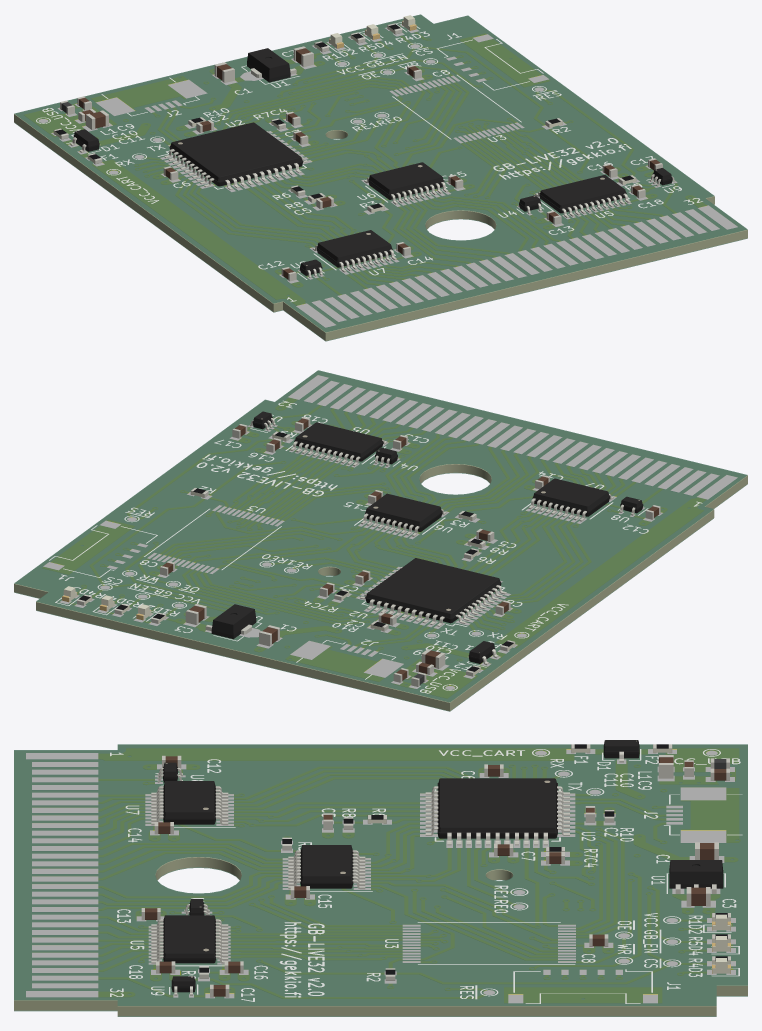
Rendered from board.glb.
3 views of the same model, one above another, from view 1: azimuth 30°, elevation 25°; view 2: azimuth 150°, elevation 25°; view 3: azimuth 270°, elevation 25° (orthographic). The views are drawn at different scales.
Visible parts, largest first — view 1: board_soldermask (×2), board_PCB, board_copper, board_pad, board_silkscreen, TQFP-44_10x10mm_P0.8mm, TSSOP-20_4.4x6.5mm_P0.65mm (×2), TSSOP-24_4.4x7.8mm_P0.65mm, adbeea57-9c39-11ed-93f0-dde97e994e83_part; view 2: board_soldermask (×2), board_PCB, board_copper, board_pad, TQFP-44_10x10mm_P0.8mm, board_silkscreen, TSSOP-20_4.4x6.5mm_P0.65mm (×2), TSSOP-24_4.4x7.8mm_P0.65mm, adbeea57-9c39-11ed-93f0-dde97e994e83_part; view 3: board_soldermask (×2), board_PCB, board_copper, board_pad, TQFP-44_10x10mm_P0.8mm, board_silkscreen, TSSOP-20_4.4x6.5mm_P0.65mm (×2), TSSOP-24_4.4x7.8mm_P0.65mm, adbeea57-9c39-11ed-93f0-dde97e994e83_part, SOT-23, C_0805_2012Metric.
Boxes of the visible parts, left/top/right/bottom form: board_soldermask (×2): left=14, top=14, right=747, bottom=341; board_PCB: left=14, top=15, right=747, bottom=340; board_copper: left=25, top=26, right=706, bottom=305; board_pad: left=38, top=24, right=737, bottom=327; board_silkscreen: left=36, top=22, right=702, bottom=301; TQFP-44_10x10mm_P0.8mm: left=164, top=122, right=308, bottom=189; TSSOP-20_4.4x6.5mm_P0.65mm (×2): left=312, top=162, right=448, bottom=272; TSSOP-24_4.4x7.8mm_P0.65mm: left=535, top=175, right=630, bottom=217; adbeea57-9c39-11ed-93f0-dde97e994e83_part: left=247, top=48, right=290, bottom=82; board_soldermask (×2): left=14, top=370, right=747, bottom=711; board_PCB: left=14, top=371, right=747, bottom=711; board_copper: left=43, top=398, right=704, bottom=697; board_pad: left=43, top=375, right=737, bottom=689; TQFP-44_10x10mm_P0.8mm: left=360, top=558, right=506, bottom=626; board_silkscreen: left=49, top=400, right=702, bottom=693; TSSOP-20_4.4x6.5mm_P0.65mm (×2): left=361, top=478, right=613, bottom=536; TSSOP-24_4.4x7.8mm_P0.65mm: left=290, top=422, right=387, bottom=466; adbeea57-9c39-11ed-93f0-dde97e994e83_part: left=211, top=604, right=256, bottom=638; board_soldermask (×2): left=14, top=744, right=747, bottom=1016; board_PCB: left=14, top=745, right=747, bottom=1016; board_copper: left=99, top=749, right=738, bottom=1002; board_pad: left=26, top=749, right=735, bottom=1003; TQFP-44_10x10mm_P0.8mm: left=425, top=778, right=569, bottom=845; board_silkscreen: left=110, top=749, right=742, bottom=1003; TSSOP-20_4.4x6.5mm_P0.65mm (×2): left=151, top=781, right=365, bottom=889; TSSOP-24_4.4x7.8mm_P0.65mm: left=151, top=915, right=228, bottom=963; adbeea57-9c39-11ed-93f0-dde97e994e83_part: left=669, top=860, right=723, bottom=888; SOT-23: left=603, top=740, right=639, bottom=762; C_0805_2012Metric: left=686, top=887, right=710, bottom=906.
Bounding box in the file's own units: 0.0514 × 0.00256 × 0.061.
